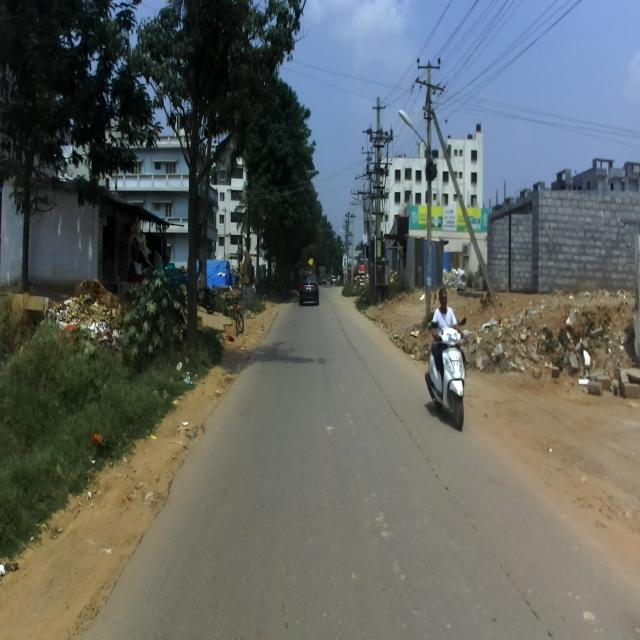electric pole ahead at: (416, 50, 447, 290)
motorcycle ahead at: (423, 315, 471, 428)
tree ahead at: (180, 103, 206, 331)
